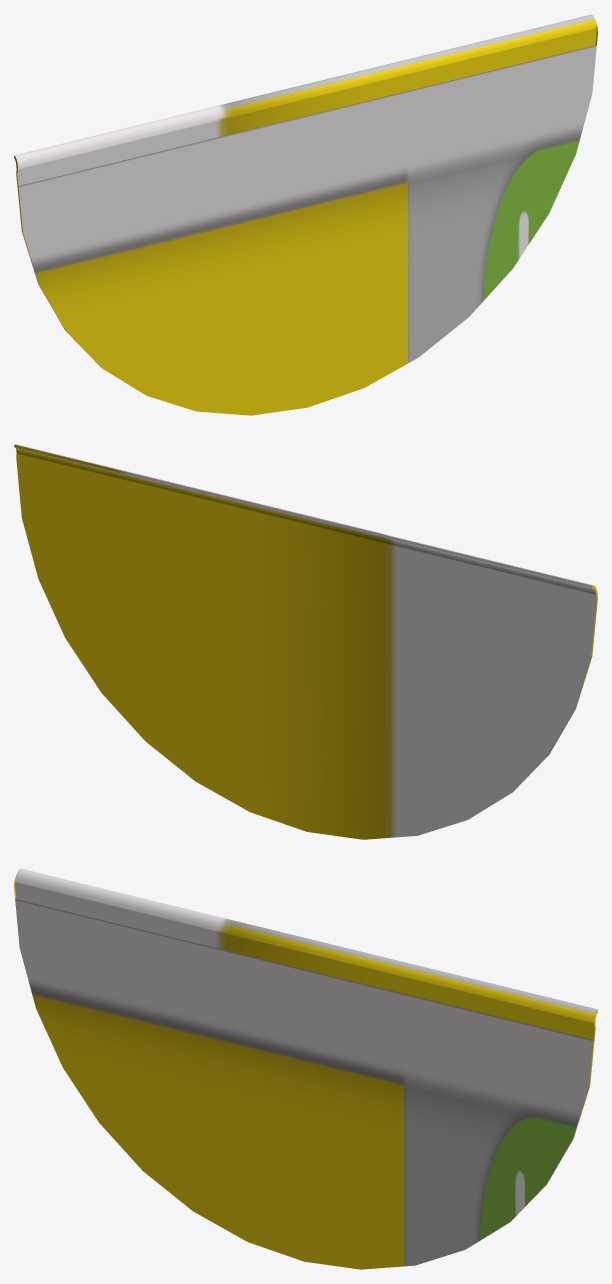
Rendered from mediaquesadilla5.obj.
The picture shows the model from 3 angles, top to bottom: view 1: azimuth 30°, elevation 25°; view 2: azimuth 150°, elevation 25°; view 3: azimuth 330°, elevation 25°; orthographic projection.
Parts seen in each view (by area): view 1: Tortilla; view 2: Tortilla; view 3: Tortilla.
Boxes of the visible parts, <box> form: Tortilla: <box>14,14,597,415</box>; Tortilla: <box>14,444,597,839</box>; Tortilla: <box>14,868,597,1269</box>.
Size of the model in its own units: 1.79 by 0.942 by 0.0253.
